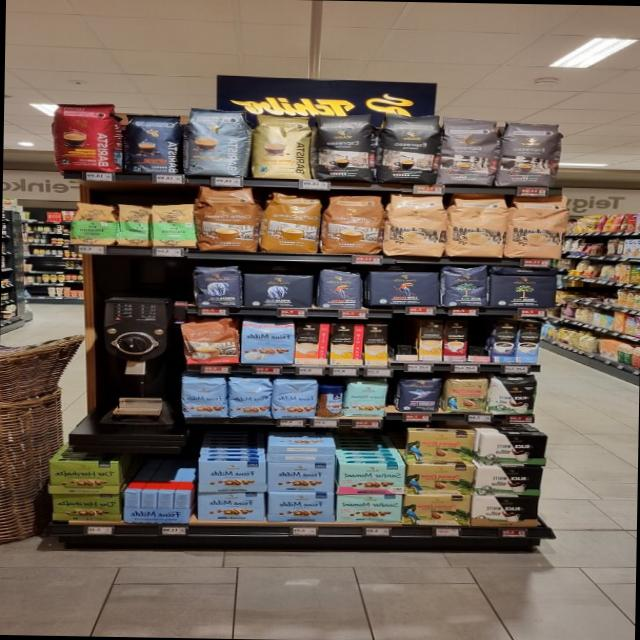AB Bohne: (186, 263, 246, 310)
AB Gemahlen: (240, 273, 316, 310)
Athiopien Bohne: (68, 203, 117, 246)
Athiopien Gemahlen: (150, 202, 197, 249), (114, 203, 151, 248)
BM Bohne: (438, 264, 490, 309)
BM Gemahlen: (485, 271, 561, 308)
BW Bohne: (488, 375, 538, 415)
BW Gemahlen: (477, 432, 548, 465), (473, 466, 542, 498), (470, 496, 539, 527)
Barista CB: (248, 113, 314, 181)
Barista CC: (180, 105, 254, 178)
Barista Espresso: (118, 111, 185, 175)
Barista Kolumbien: (49, 102, 120, 173)
C Fino Bohne: (394, 376, 444, 413)
CC Mild: (504, 193, 572, 260), (381, 191, 445, 258), (444, 193, 507, 260)
CC Vollmundig: (178, 315, 241, 365)
CC Vollmundig 36 Pads: (193, 185, 261, 254), (318, 190, 384, 255), (255, 191, 321, 254)
Colombia BB Bohne: (442, 375, 489, 414)
Colombia BB Gemahlen: (404, 431, 475, 463), (406, 464, 474, 495), (401, 494, 469, 525)
Empty Shelf: (387, 318, 418, 361), (467, 319, 492, 362)
Espresso Aromatisch: (493, 119, 563, 188), (436, 118, 501, 187)
Espresso Kraftig: (373, 114, 439, 188), (311, 114, 377, 183)
FM 36 Pads: (239, 316, 293, 366)
FM Bohne: (176, 375, 228, 418), (224, 375, 272, 420), (270, 377, 317, 419)
FM Gemahlen: (196, 461, 266, 492), (267, 492, 335, 523), (195, 491, 264, 521)
FM Instant: (315, 381, 345, 418)
Herzhatfe Mundig: (47, 461, 120, 494), (48, 493, 121, 521)
LG Bohne: (313, 267, 366, 310)
LG Gemahlen: (368, 270, 442, 306)
SM Bohne: (342, 381, 388, 418)
SM Gemahlen: (265, 462, 335, 493), (337, 464, 405, 494), (335, 494, 402, 523)
Simo CCMild: (328, 323, 363, 365)
Simo CCMild bigpack: (363, 324, 389, 366)
Simo CCVollmundig: (293, 322, 330, 365)
Simo Decaff: (418, 318, 443, 360)
Simo Es Caramel: (443, 319, 468, 362)
Simo Es Kraft: (490, 319, 518, 362)
Simo Es Vanilla: (516, 320, 540, 363)
